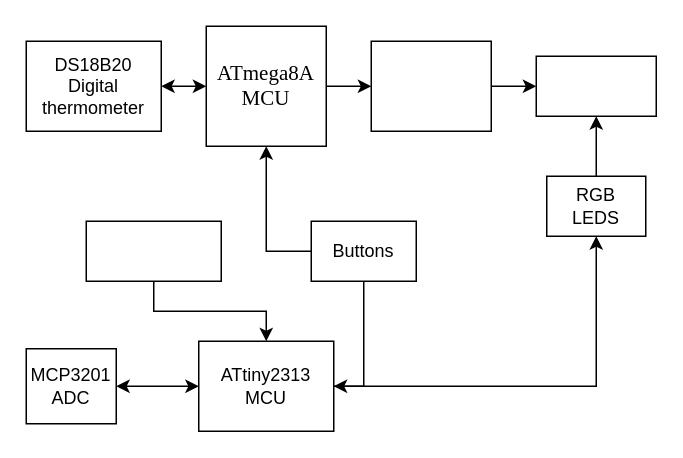
Image size: 683x458. Some labels were removed from this diagram. The shapes that lost their labels are listed below. From the top down, each one's centre as x and y in pixels, then its label:
At [430,85]: "K155ID1 Decoder".
At [595,85]: "Nixie tubes".
At [153,250]: "Potentiometer".
